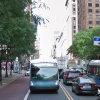Bus: (27, 58, 62, 100)
